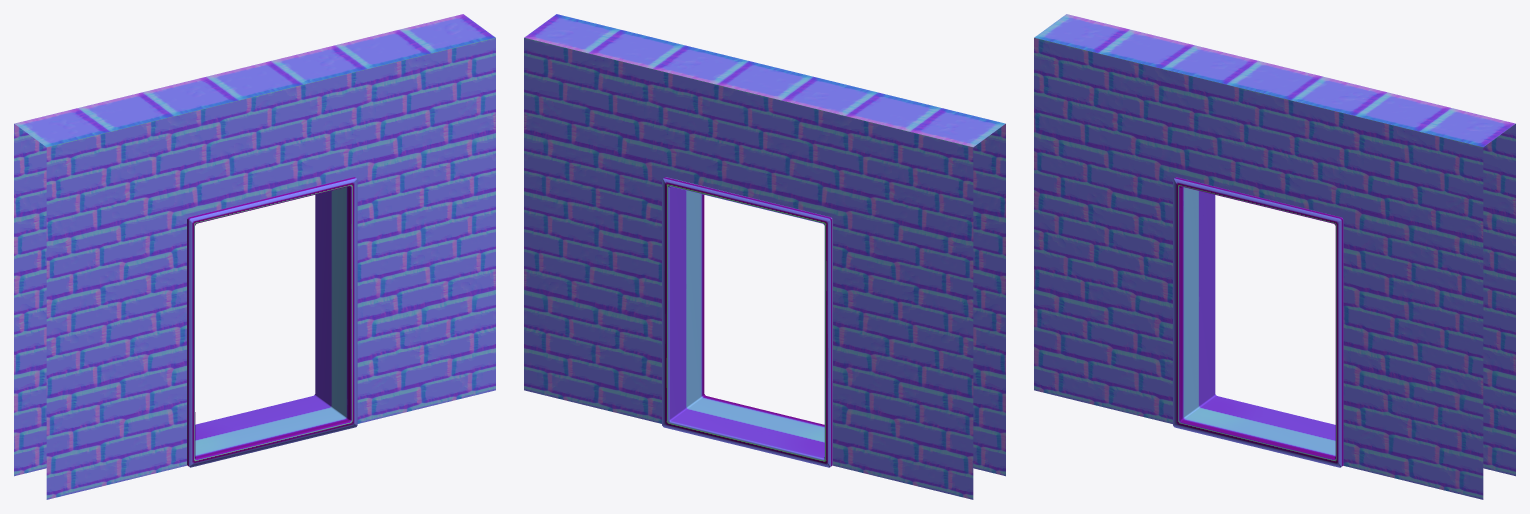
File: sm_wall_straight_04.fbx
3 views of the same model, side by side, from view 1: azimuth 30°, elevation 25°; view 2: azimuth 150°, elevation 25°; view 3: azimuth 330°, elevation 25° (orthographic).
Parts seen in each view (by area): view 1: sm_wall_straight_04; view 2: sm_wall_straight_04; view 3: sm_wall_straight_04.
Boxes of the visible parts, x1,y1,x2,y2 form: sm_wall_straight_04: (14,14,495,499); sm_wall_straight_04: (524,14,1005,499); sm_wall_straight_04: (1034,14,1515,499).
Size of the model in its own units: 400 by 301 by 55.8.
1 material, 1 textured.
